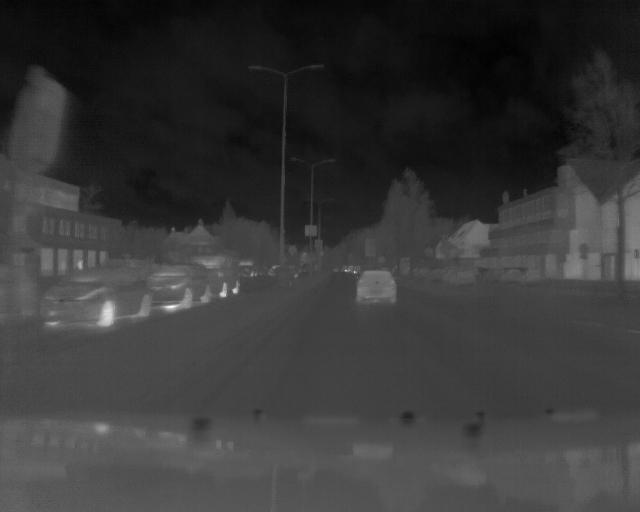car: (39, 263, 156, 329), (148, 262, 214, 307), (196, 254, 243, 296), (354, 269, 398, 304)
